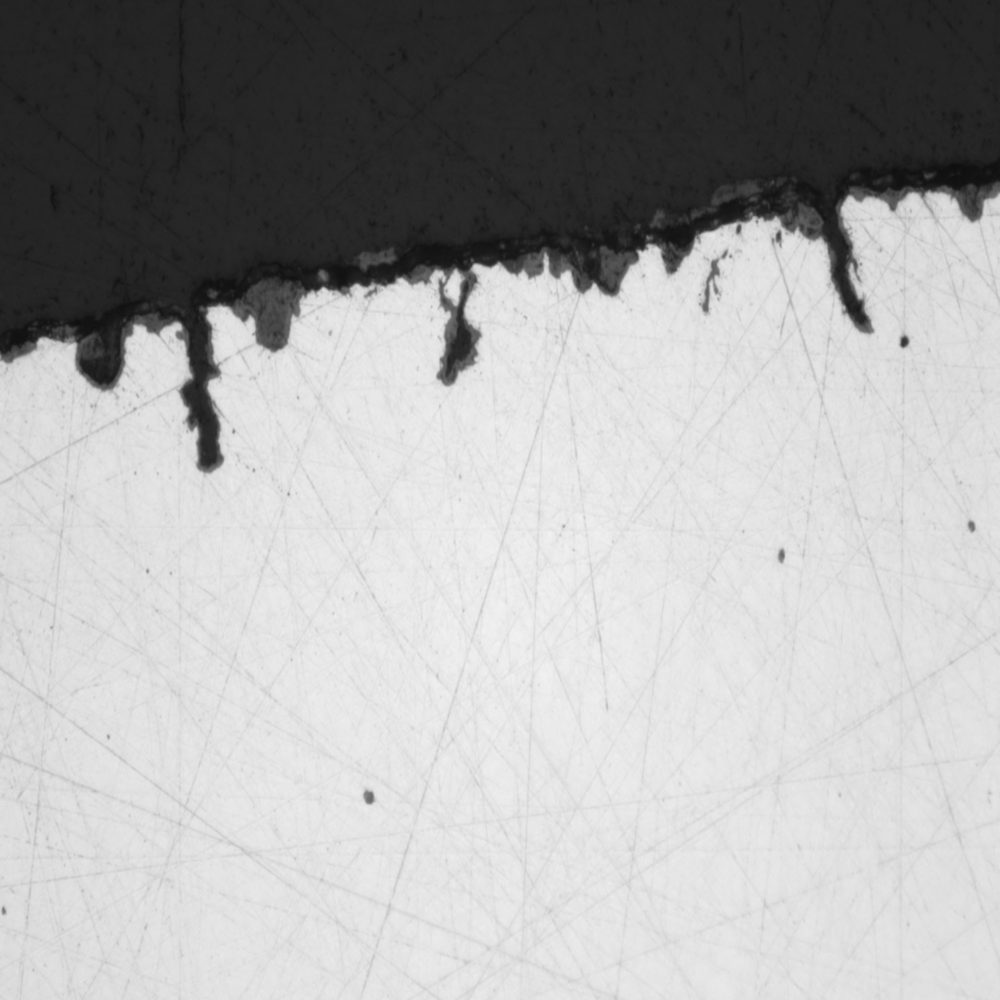crack: (764, 184, 896, 358), (529, 229, 741, 314), (419, 249, 500, 409), (233, 268, 344, 349), (182, 280, 218, 485), (74, 299, 133, 417)
